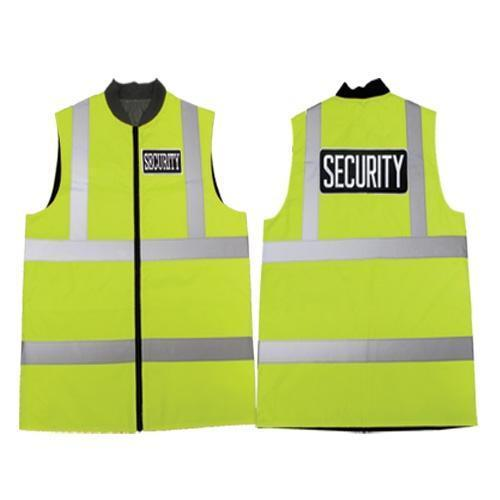vest: (16, 80, 257, 428), (256, 77, 479, 428)
